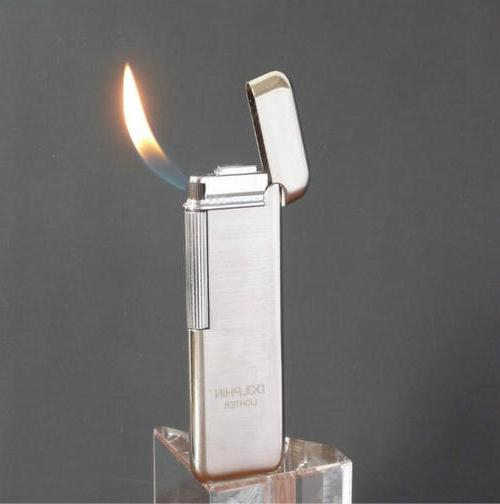fire: (114, 54, 197, 200)
